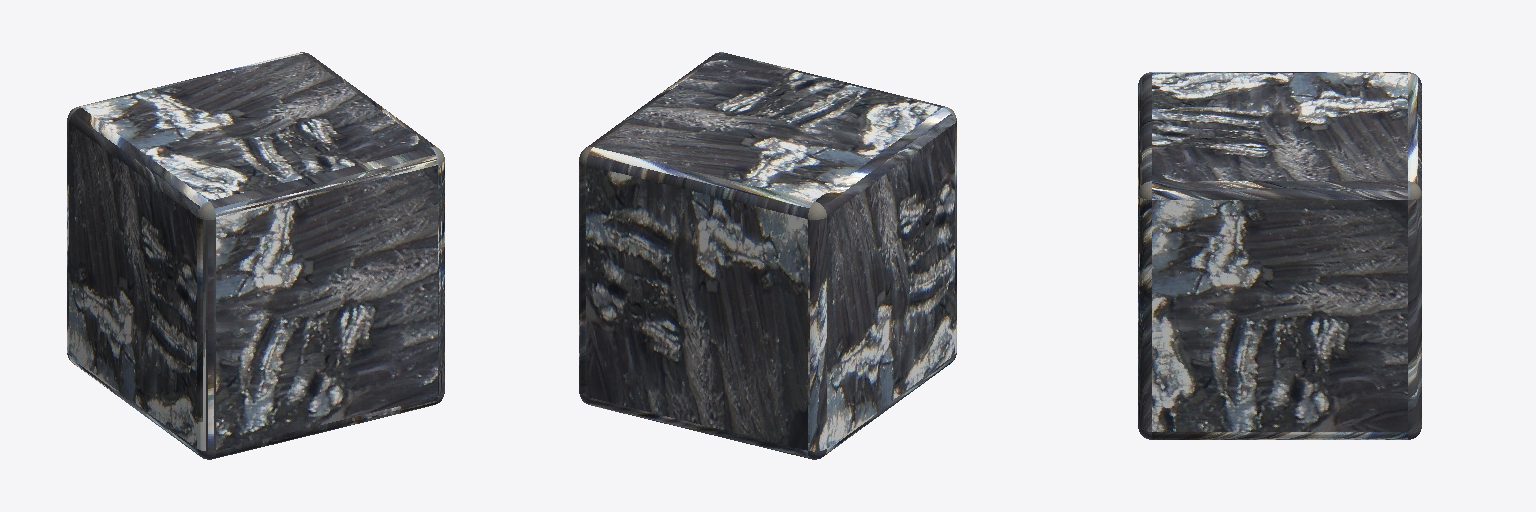
The picture shows the model from 3 angles: view 1: azimuth 30°, elevation 25°; view 2: azimuth 150°, elevation 25°; view 3: azimuth 270°, elevation 25°; orthographic projection.
Visible parts, largest first — view 1: Cube; view 2: Cube; view 3: Cube.
Part boxes in pixels (x1,y1,x2,y2): Cube: (67, 52, 444, 459); Cube: (579, 52, 956, 459); Cube: (1138, 72, 1421, 439).
Size of the model in its own units: 2 by 2 by 2.
Materials: 1 (1 with a texture image).